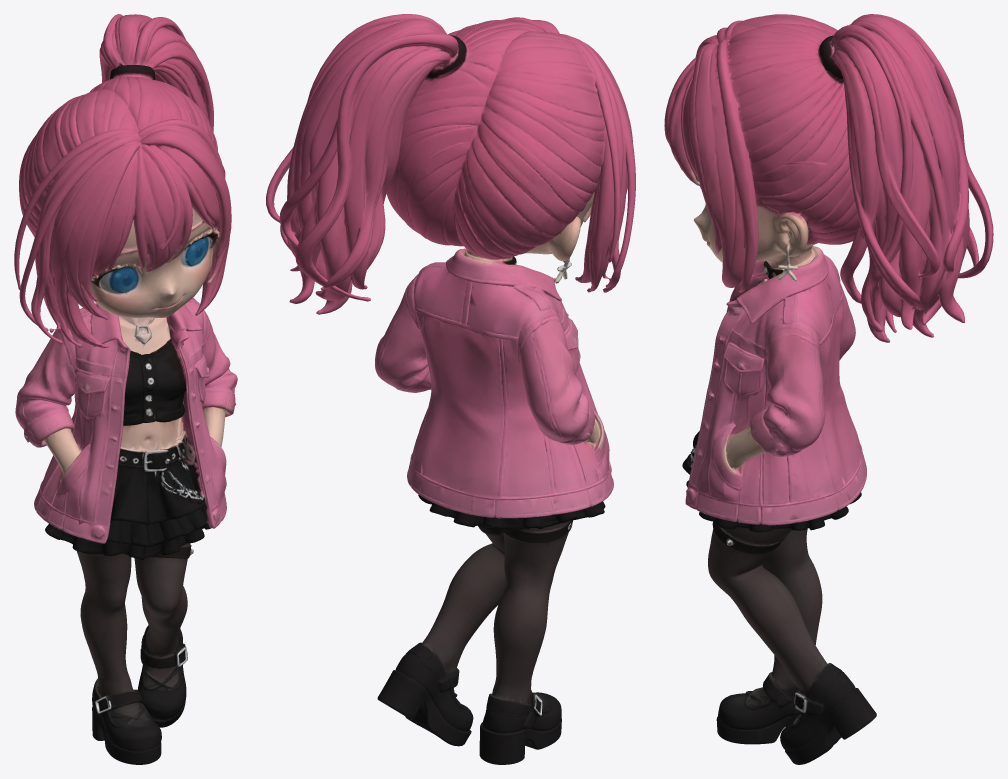
Rendered from small-model-pinkidol.glb.
3 views of the same model, side by side, from view 1: azimuth 30°, elevation 25°; view 2: azimuth 150°, elevation 25°; view 3: azimuth 270°, elevation 25° (orthographic). The views are drawn at different scales.
Visible parts, largest first — view 1: tripo_node_65ad649a-a36c-4cf1-902d-8b47640b89df; view 2: tripo_node_65ad649a-a36c-4cf1-902d-8b47640b89df; view 3: tripo_node_65ad649a-a36c-4cf1-902d-8b47640b89df.
Boxes of the visible parts, bbox=[...] form: tripo_node_65ad649a-a36c-4cf1-902d-8b47640b89df: bbox=[14, 14, 237, 764]; tripo_node_65ad649a-a36c-4cf1-902d-8b47640b89df: bbox=[266, 14, 635, 764]; tripo_node_65ad649a-a36c-4cf1-902d-8b47640b89df: bbox=[664, 14, 993, 764].
Bounding box in the file's own units: 0.3895 × 0.9798 × 0.3927.
1 material, 1 textured.
